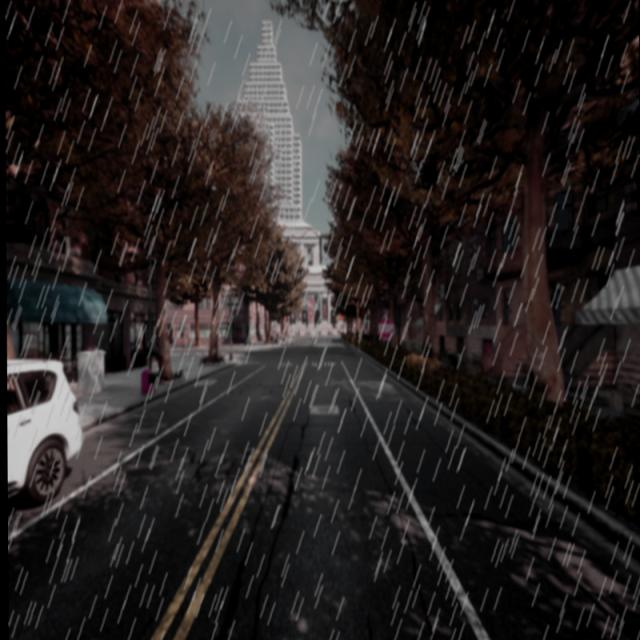stop sign: (375, 312, 396, 342)
